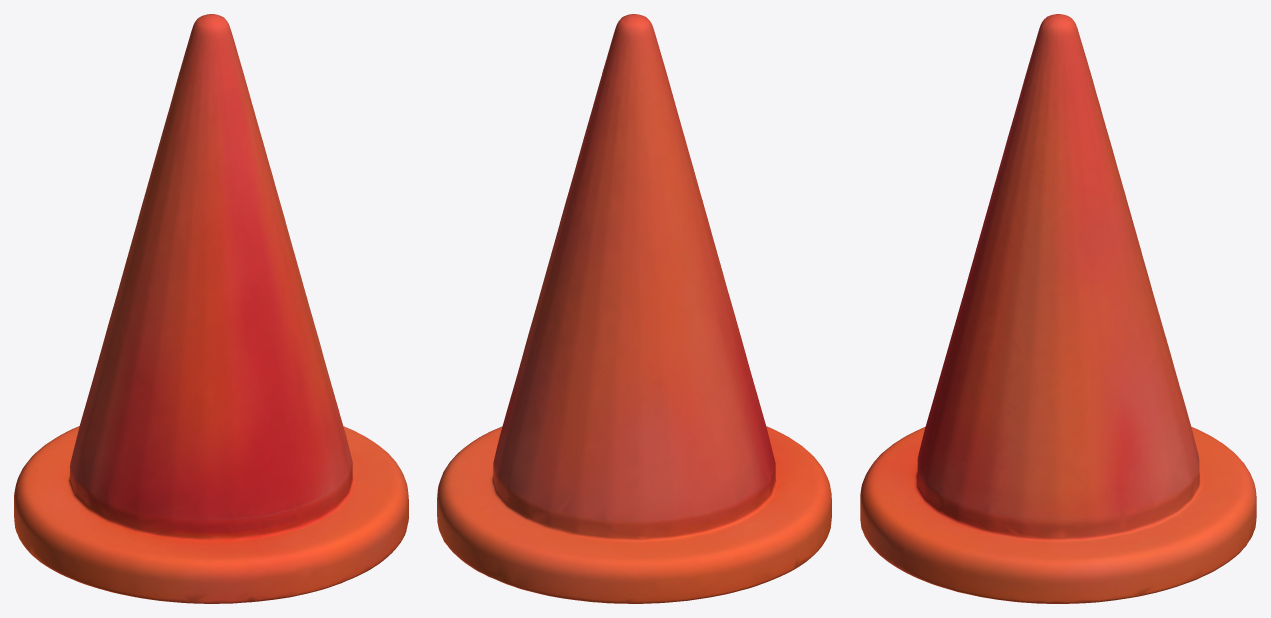
The model's file is obstacle_spikes.glb.
The picture shows the model from 3 angles, left to right: view 1: azimuth 30°, elevation 25°; view 2: azimuth 150°, elevation 25°; view 3: azimuth 270°, elevation 25°; orthographic projection.
Parts seen in each view (by area): view 1: model; view 2: model; view 3: model.
Boxes of the visible parts, box(x1,y1,x2,y2) form: model: box(14, 14, 408, 603); model: box(437, 14, 831, 603); model: box(860, 14, 1256, 603).
Bounding box in the file's own units: 1.35 × 1.9 × 1.35.
Materials: 1 (1 with a texture image).
